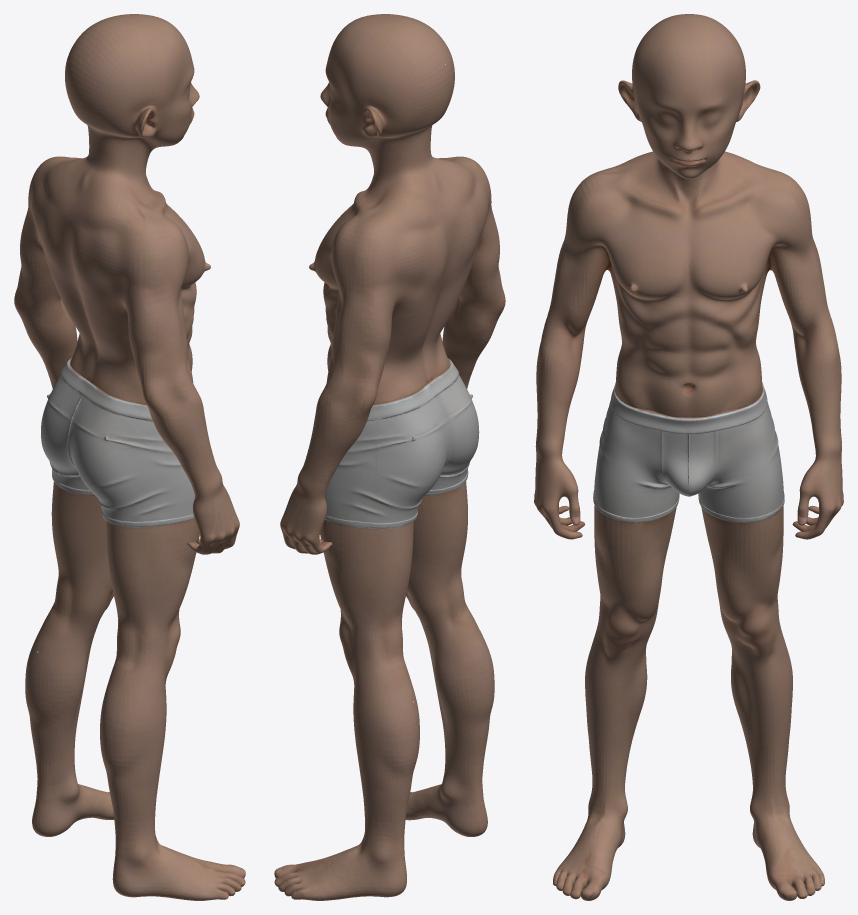
Rendered from human+figure+3d+model.glb.
3 renders of one model, left to right at view 1: azimuth 30°, elevation 25°; view 2: azimuth 150°, elevation 25°; view 3: azimuth 270°, elevation 25°, orthographic.
Visible parts, largest first — view 1: tripo_node_2da8974d-3a64-4c8f-bccc-366e7041fb82; view 2: tripo_node_2da8974d-3a64-4c8f-bccc-366e7041fb82; view 3: tripo_node_2da8974d-3a64-4c8f-bccc-366e7041fb82.
Boxes of the visible parts, x1=… form: tripo_node_2da8974d-3a64-4c8f-bccc-366e7041fb82: x1=14, y1=14, x2=245, y2=900; tripo_node_2da8974d-3a64-4c8f-bccc-366e7041fb82: x1=274, y1=14, x2=505, y2=900; tripo_node_2da8974d-3a64-4c8f-bccc-366e7041fb82: x1=534, y1=14, x2=843, y2=900.
Bounding box in the file's own units: 0.17 × 1 × 0.3307.
1 material, 1 textured.
